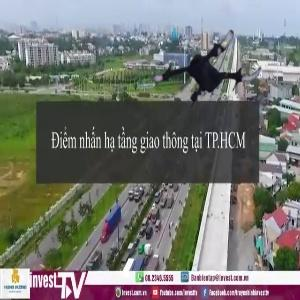drone: (153, 9, 265, 121)
